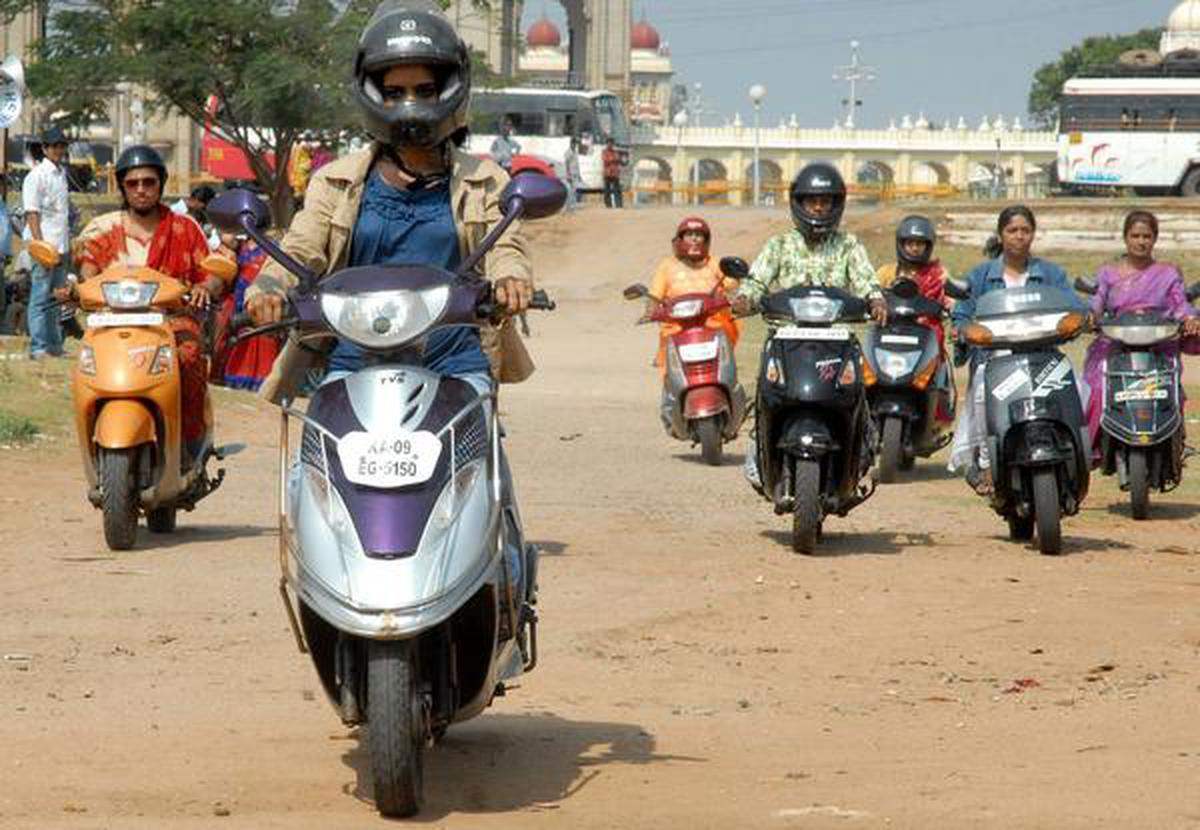MotorCycle: (266, 262, 555, 827), (35, 251, 229, 553), (958, 281, 1095, 561), (753, 282, 877, 562), (1099, 312, 1194, 526), (642, 292, 750, 469)
